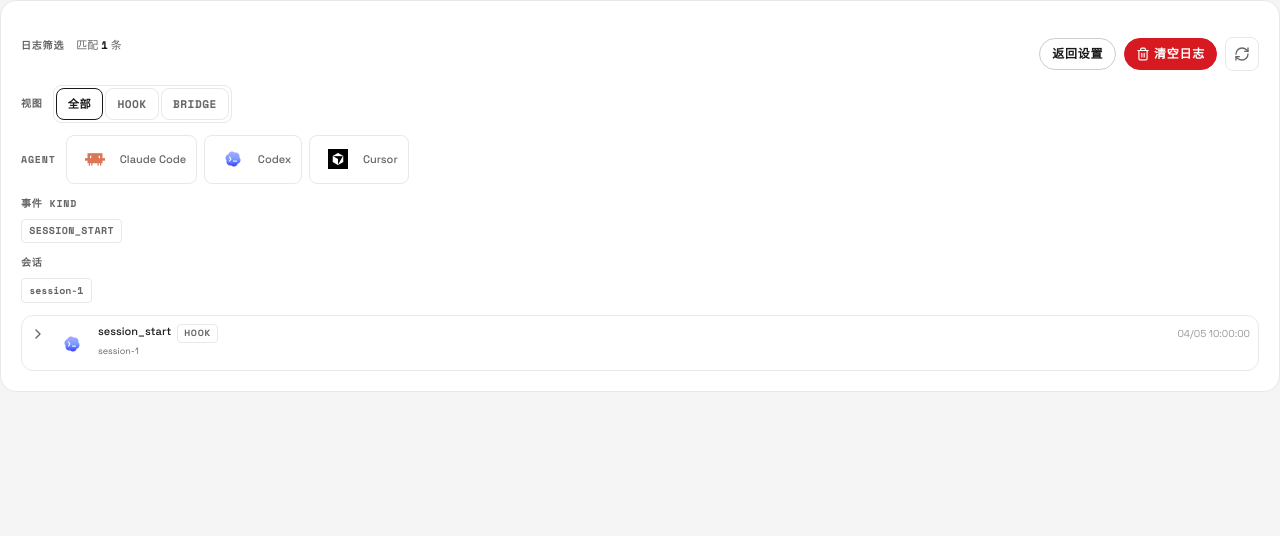
Test: LogCenter › 失败时展示错误提示，并允许结束加载态
The width and height of the screenshot is (1280, 536).
Click the button "清空日志" at [1171, 54], box [1124,38,1217,70]
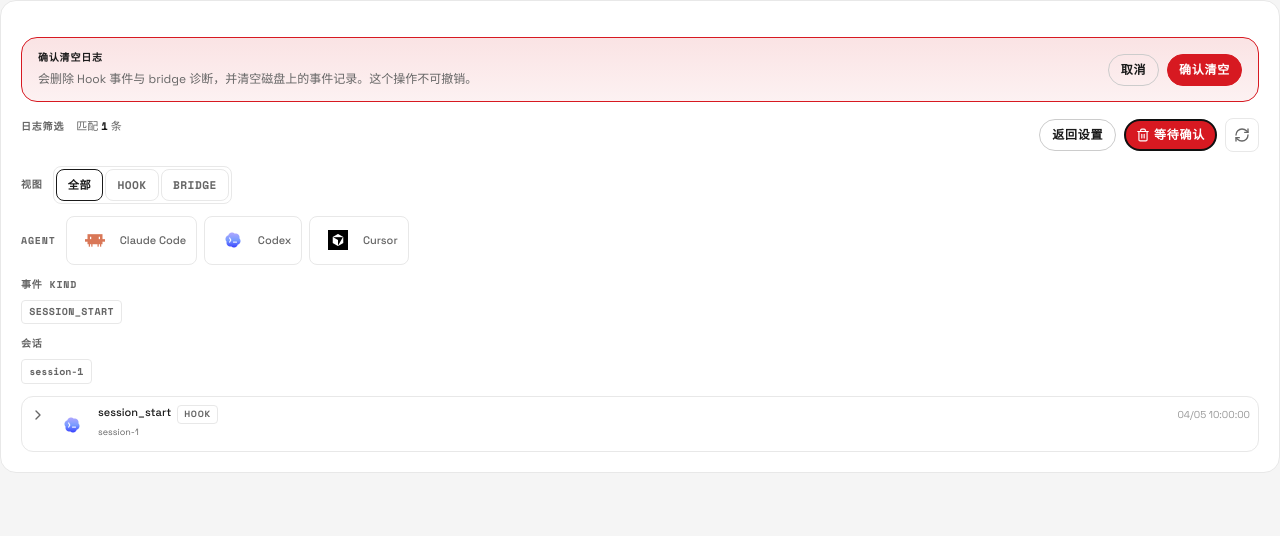
Click the button "确认清空" at [1205, 70], box [1167,54,1242,86]
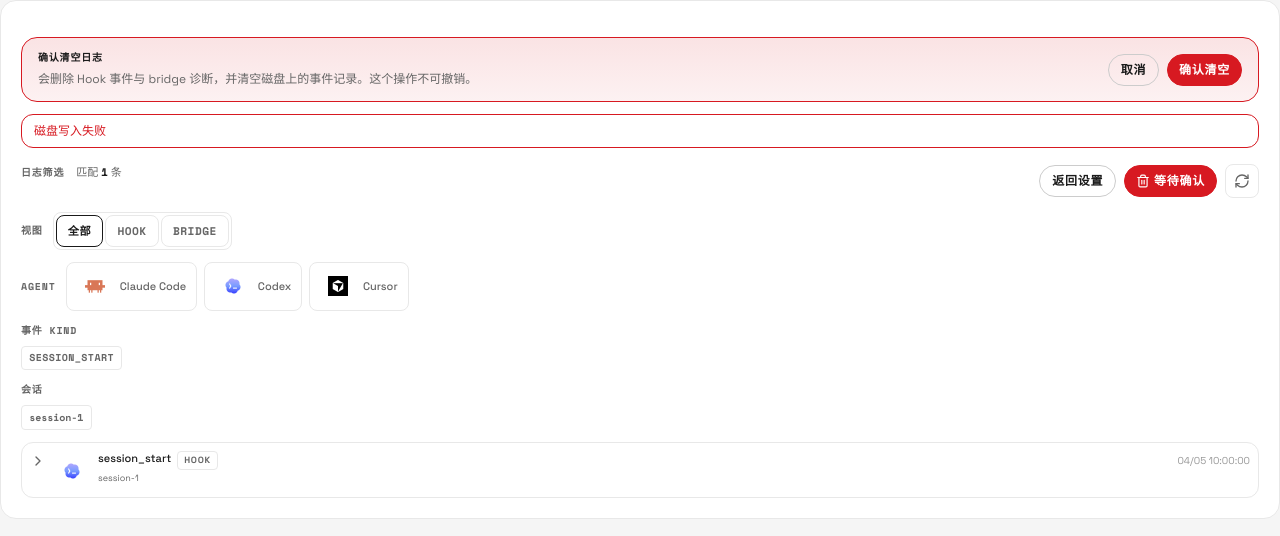
Result: the button "确认清空" is enabled at [1167,54,1242,86]
Result: the message reads "磁盘写入失败" at [34,123,106,139]
